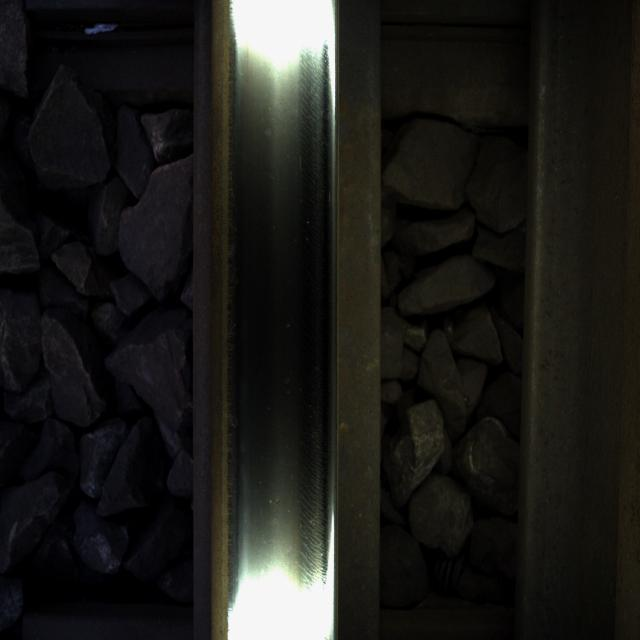break: (239, 39, 330, 610)
